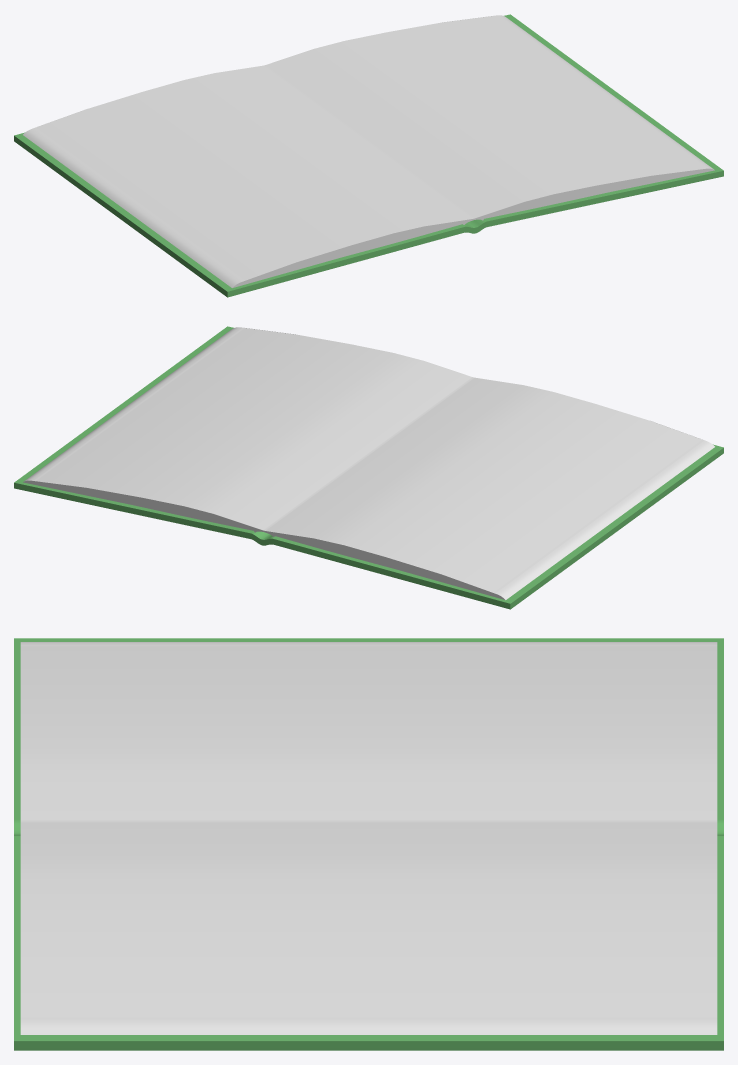
The model's file is Livre Ouvert.fbx.
3 views of the same model, one above another, from view 1: azimuth 30°, elevation 25°; view 2: azimuth 150°, elevation 25°; view 3: azimuth 270°, elevation 25° (orthographic). The views are drawn at different scales.
Parts seen in each view (by area): view 1: pages, livre; view 2: pages, livre; view 3: pages, livre.
Part boxes in pixels (x1,y1,x2,y2): pages: (23,15,714,287); livre: (14,14,723,297); pages: (23,327,714,599); livre: (14,326,723,609); pages: (20,642,717,1034); livre: (14,638,723,1050).
Bounding box in the file's own units: 42.76 × 1.79 × 31.85.
